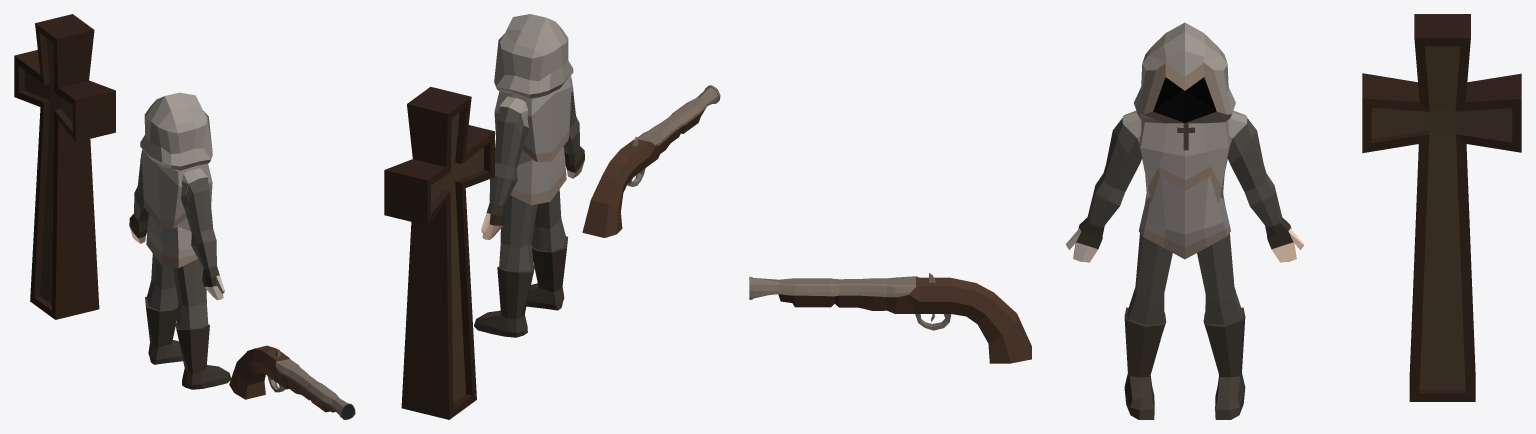
File: crossenemyweapon.fbx
3 renders of one model, left to right at view 1: azimuth 30°, elevation 25°; view 2: azimuth 150°, elevation 25°; view 3: azimuth 270°, elevation 25°, orthographic. The views are drawn at different scales.
Visible parts, largest first — view 1: Cube.003, head, torso, Cube.004, lower left leg.001, lower right leg', upper left arm, upper left leg, lower left arm, upper right leg, left hand.001, right hand (+1 smaller); view 2: Cube.003, Cube.004, head, torso, lower right leg', lower left leg.001, upper right arm.001, upper right leg, lower right arm, upper left leg, right hand, left hand.001 (+1 smaller); view 3: Cube.003, torso, Cube.004, head, lower left leg.001, lower right leg', upper left arm, upper right arm.001, upper left leg, upper right leg, lower right arm, lower left arm (+2 smaller).
Part boxes in pixels (x1,y1,x2,y2): Cube.003: [14, 14, 115, 319]; head: [140, 92, 212, 171]; torso: [141, 151, 212, 268]; Cube.004: [229, 345, 355, 419]; lower left leg.001: [175, 303, 231, 389]; lower right leg': [145, 280, 182, 364]; upper left arm: [180, 168, 213, 233]; upper left leg: [173, 259, 206, 307]; lower left arm: [191, 229, 216, 268]; upper right leg: [151, 253, 175, 290]; left hand.001: [202, 266, 224, 300]; right hand: [129, 214, 148, 243]; Cube.003: [384, 86, 494, 419]; Cube.004: [582, 85, 720, 237]; head: [494, 14, 573, 99]; torso: [494, 78, 571, 205]; lower right leg': [474, 243, 535, 337]; lower left leg.001: [526, 218, 567, 310]; upper right arm.001: [495, 96, 528, 167]; upper right leg: [500, 195, 537, 247]; lower right arm: [489, 162, 517, 205]; upper left leg: [534, 189, 561, 229]; right hand: [481, 203, 505, 239]; left hand.001: [564, 146, 584, 178]; Cube.003: [1362, 14, 1521, 401]; torso: [1139, 120, 1230, 259]; Cube.004: [749, 273, 1031, 363]; head: [1134, 22, 1235, 123]; lower left leg.001: [1124, 288, 1166, 419]; lower right leg': [1203, 287, 1245, 419]; upper left arm: [1103, 111, 1142, 191]; upper right arm.001: [1227, 110, 1266, 191]; upper left leg: [1135, 233, 1172, 303]; upper right leg: [1197, 233, 1234, 303]; lower right arm: [1244, 173, 1282, 227]; lower left arm: [1087, 174, 1125, 227].
Size of the model in its own units: 166 by 626 by 1193.
